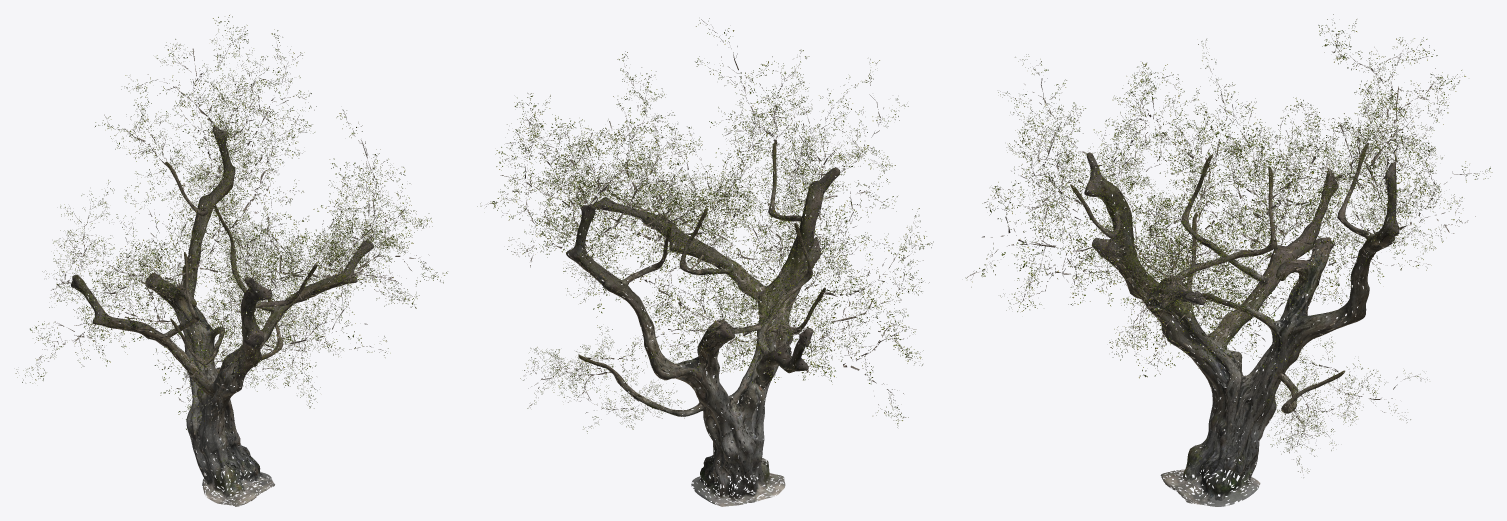
File: island_tree_01_2k.gltf
3 views of the same model, side by side, from view 1: azimuth 30°, elevation 25°; view 2: azimuth 150°, elevation 25°; view 3: azimuth 270°, elevation 25° (orthographic). The views are drawn at different scales.
Visible parts, largest first — view 1: island_tree_01_LOD0; view 2: island_tree_01_LOD0; view 3: island_tree_01_LOD0.
Boxes of the visible parts, x1,y1,x2,y2 form: island_tree_01_LOD0: (15, 15, 447, 506); island_tree_01_LOD0: (477, 18, 933, 506); island_tree_01_LOD0: (965, 14, 1492, 506).
Size of the model in its own units: 4.74 by 5.02 by 4.81.
Materials: 3 (3 with a texture image).
